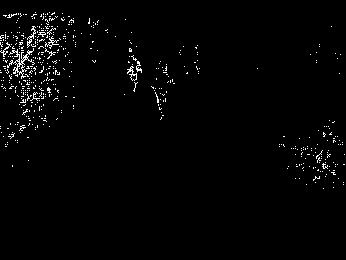person: (151, 60, 176, 121), (126, 48, 143, 94)
